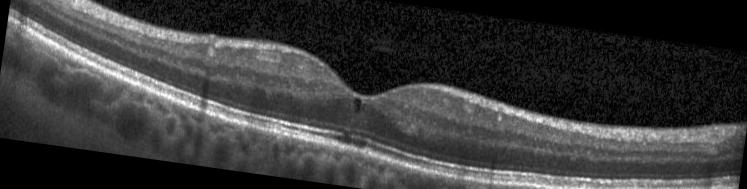intraretinal_cyst: (352, 98, 360, 112)
